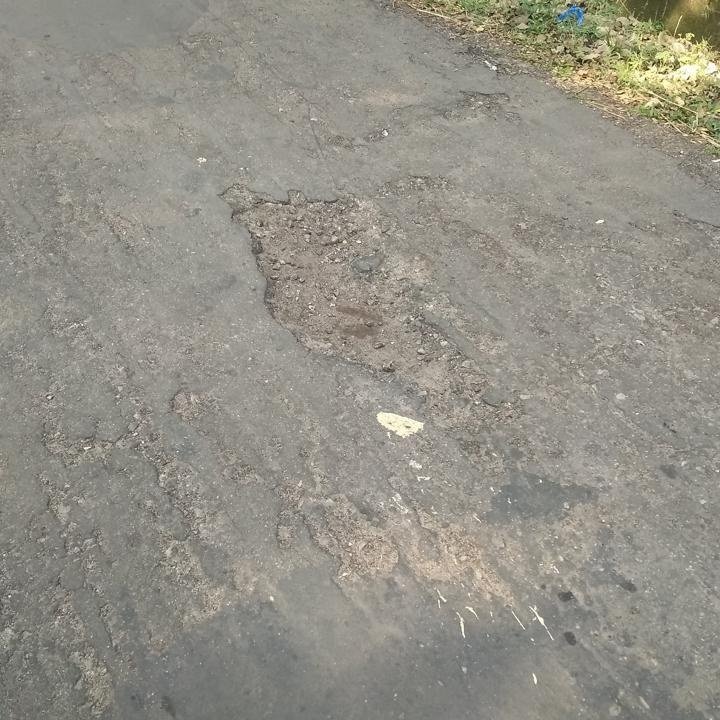pothole: (219, 180, 468, 393), (450, 84, 511, 120)
